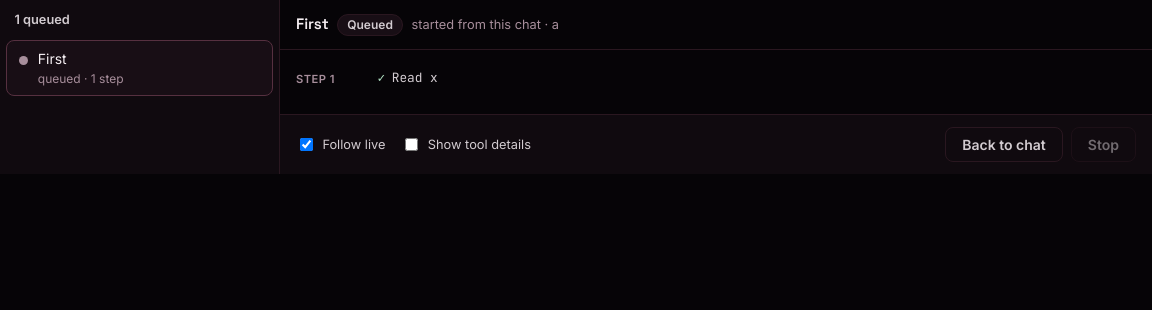
Test: HelpersContainer › hides tool details by default and shows them once the toggle is checked
This screenshot has width=1152, height=310.
Expected: the text "the output" is not shown
Click the checkbox labelled "Show tool details". click: (412, 144)
box: [405,138,418,151]
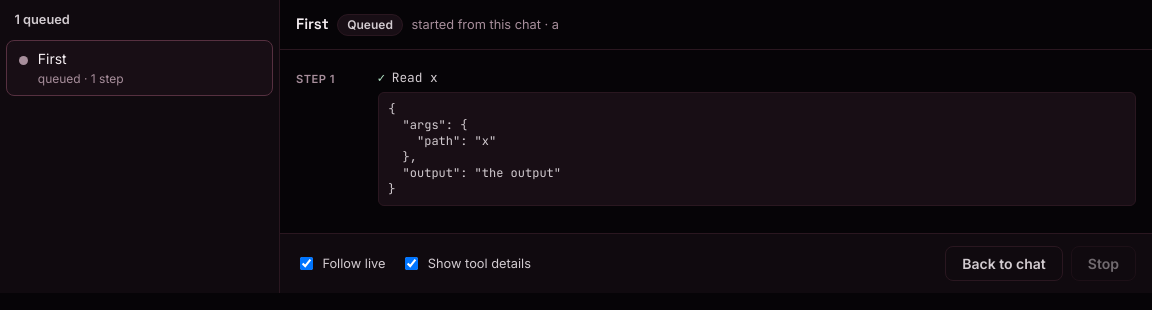
Now the text "{ \"args\": { \"path\": \"x\" }, \"output\": \"the output\" }" is shown, box [378,92,1136,206]
